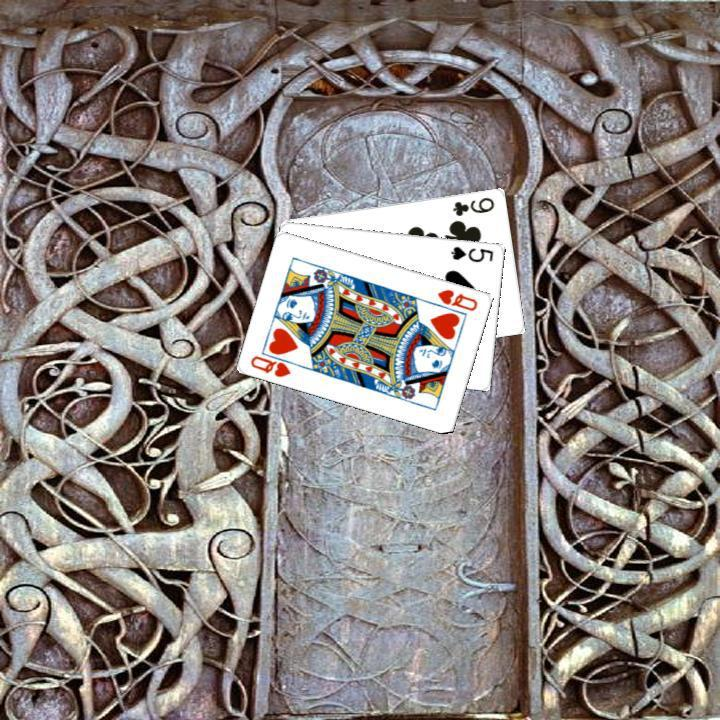5: (447, 241, 496, 264)
9: (448, 192, 497, 218)
Q: (246, 347, 301, 379), (433, 285, 480, 313)
